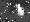person: (15, 6, 21, 15), (19, 8, 25, 17)
